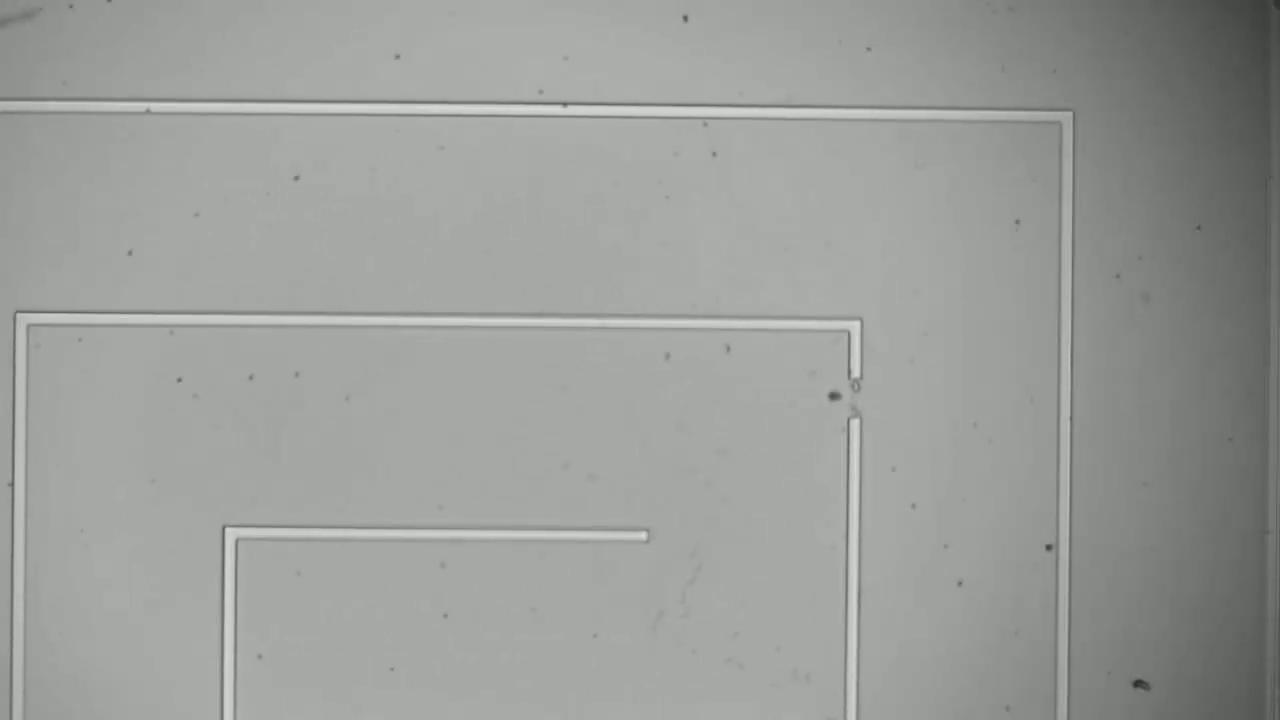open: (837, 351, 882, 445)
